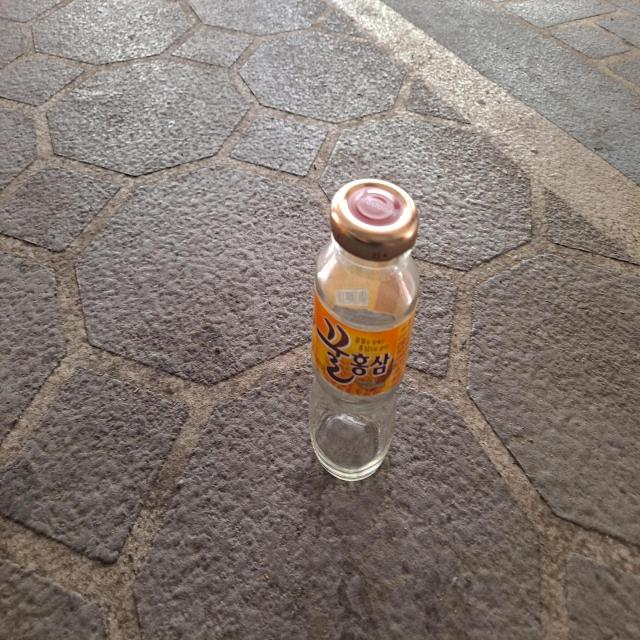glass: (309, 178, 420, 480)
